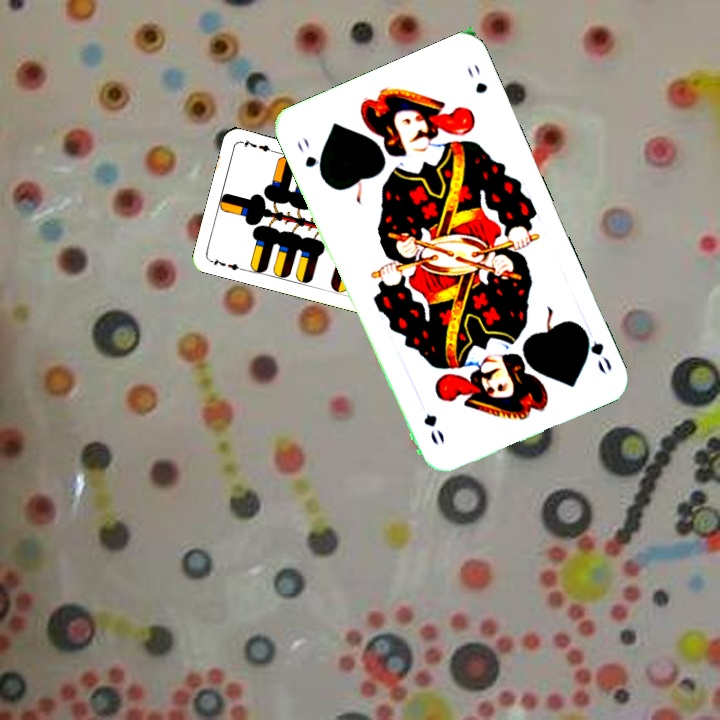E7: (206, 254, 246, 273)
GO: (577, 322, 615, 377), (292, 134, 327, 183)
